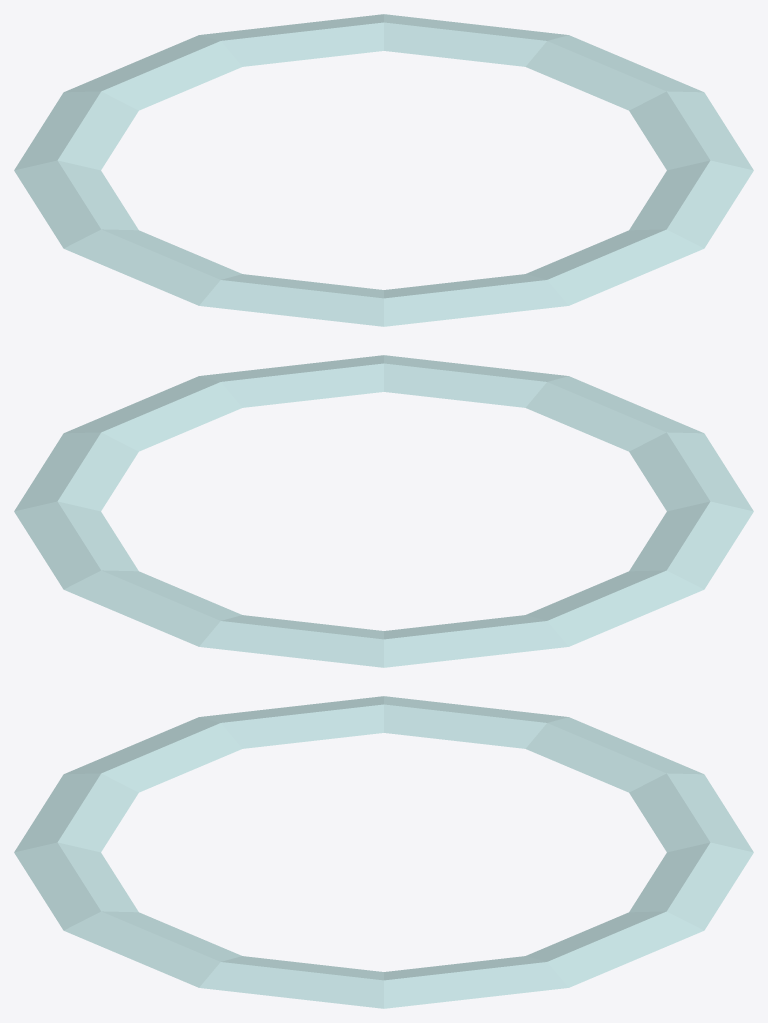
Rendered from diving_ring_01.fbx.
3 views of the same model, one above another, from view 1: azimuth 30°, elevation 25°; view 2: azimuth 150°, elevation 25°; view 3: azimuth 270°, elevation 25° (orthographic).
Parts seen in each view (by area): view 1: obj_ring_01; view 2: obj_ring_01; view 3: obj_ring_01.
Part boxes in pixels (x1,y1,x2,y2): obj_ring_01: (14,14,753,326); obj_ring_01: (14,355,753,667); obj_ring_01: (14,696,753,1008).
Size of the model in its own units: 300 by 9 by 300.
